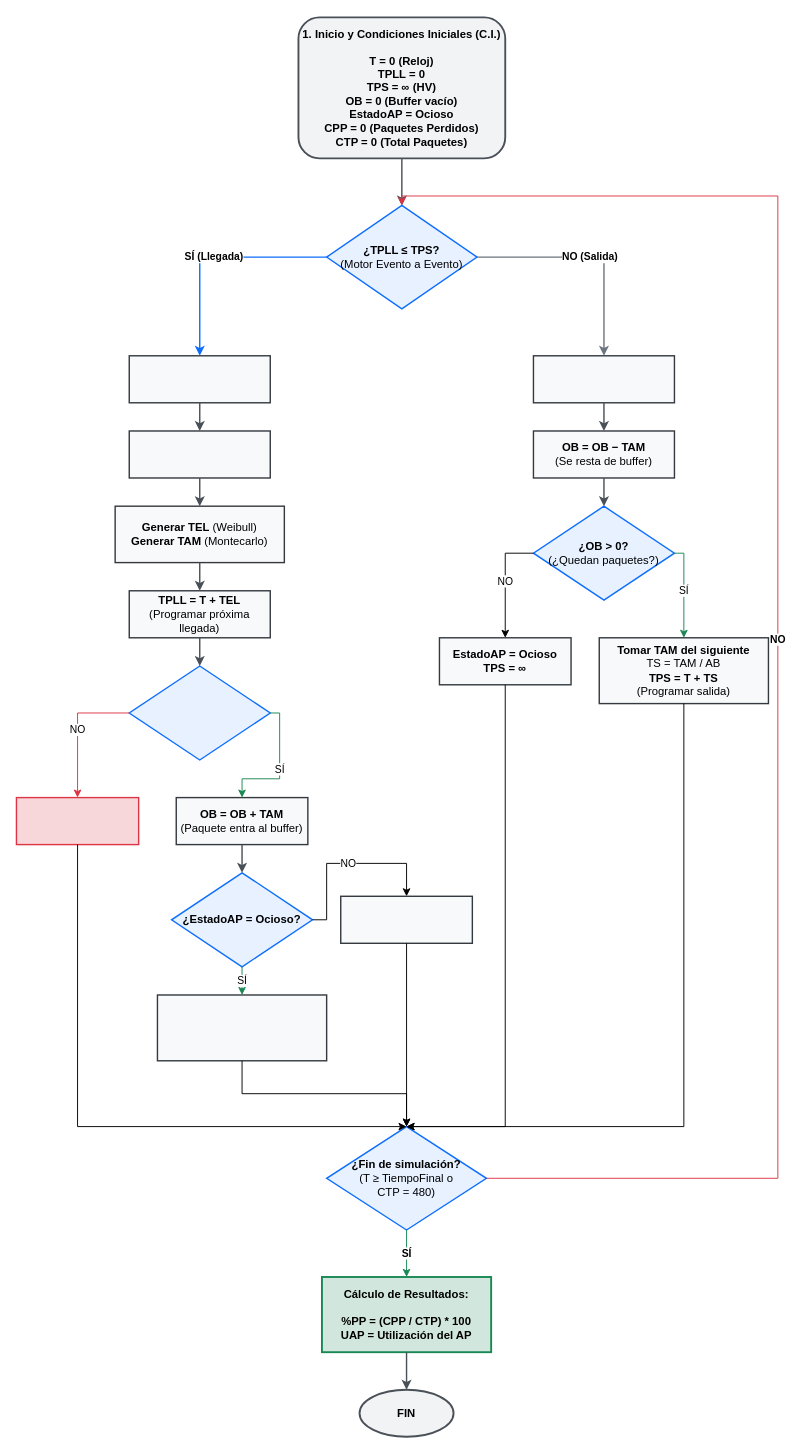
The diagram is 803 pixels wide and 1453 high, and some of its shapes have lost their labels. The shapes that lost their labels are listed below. From the top down, each one's centre as x and y in pixels, then its label:
At point 199,379: "T = TPLL (Avanza reloj a la llegada)".
At point 603,379: "T = TPS (Avanza reloj a la salida)".
At point 199,454: "CTP = CTP + 1 (Nuevo paquete)".
At point 199,712: "¿OB + TAM ≤ CB? (¿Entra en Buffer?)".
At point 77,820: "CPP = CPP + 1 (Se descarta paquete)".
At point 406,919: "Paquete espera en fila (Servidor ocupado)".
At point 241,1027: "EstadoAP = Transmitiendo TS = TAM / AB TPS = T + TS (Programar salida)".
